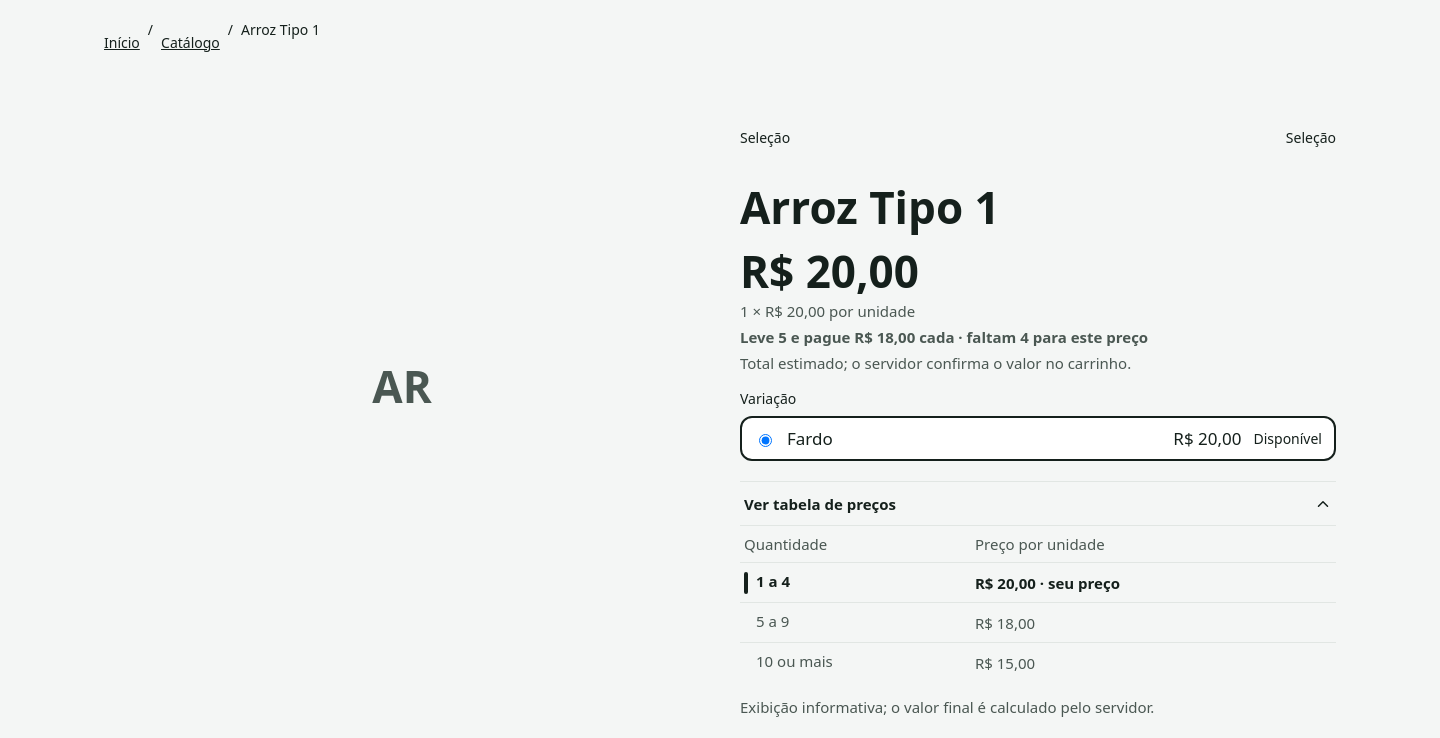
it: preço na página do produto › dropdown da tabela abre por padrão e alterna aria-expanded
Click the button "Ver tabela de preços" at {"x": 820, "y": 504}, box [740, 481, 1336, 525]
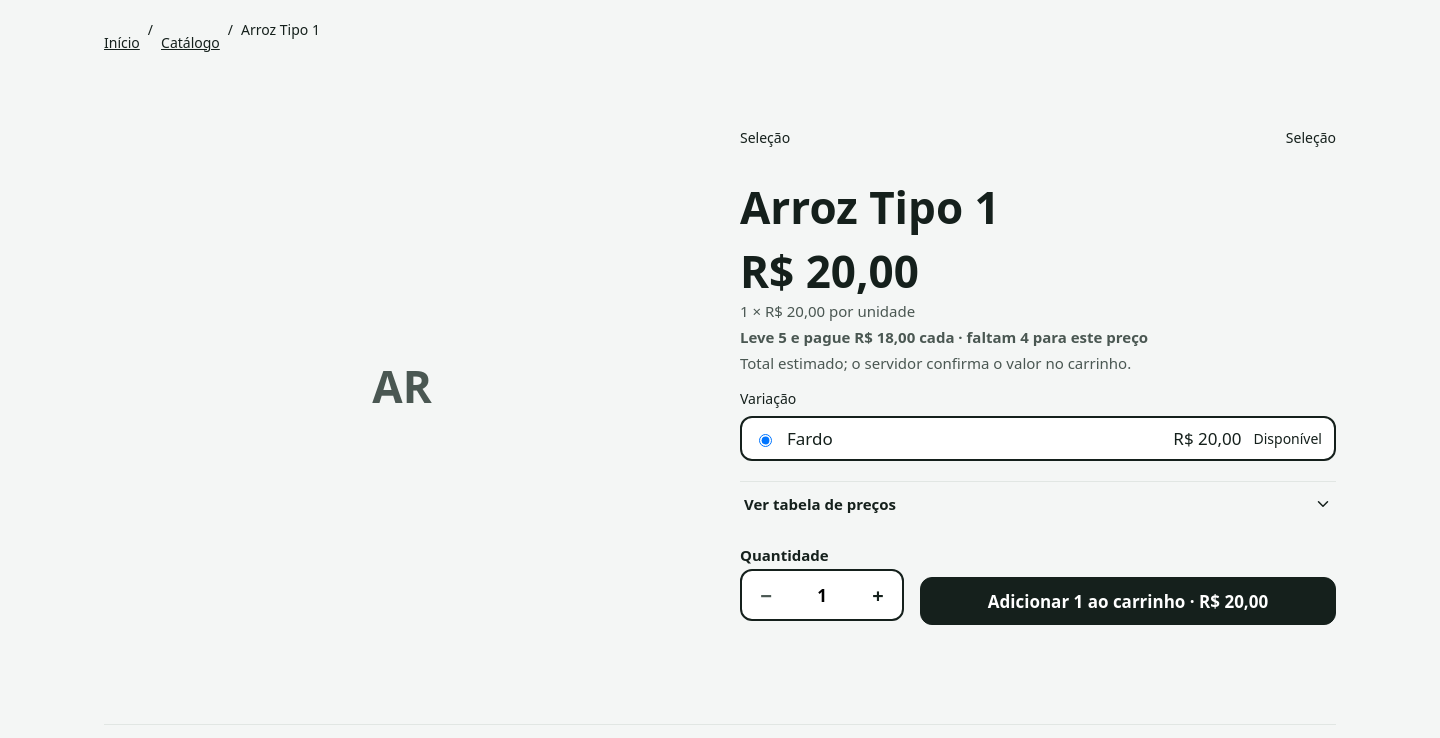
Result: the button "Ver tabela de preços" is collapsed
Click the button "Ver tabela de preços" at {"x": 820, "y": 504}, box [740, 481, 1336, 525]
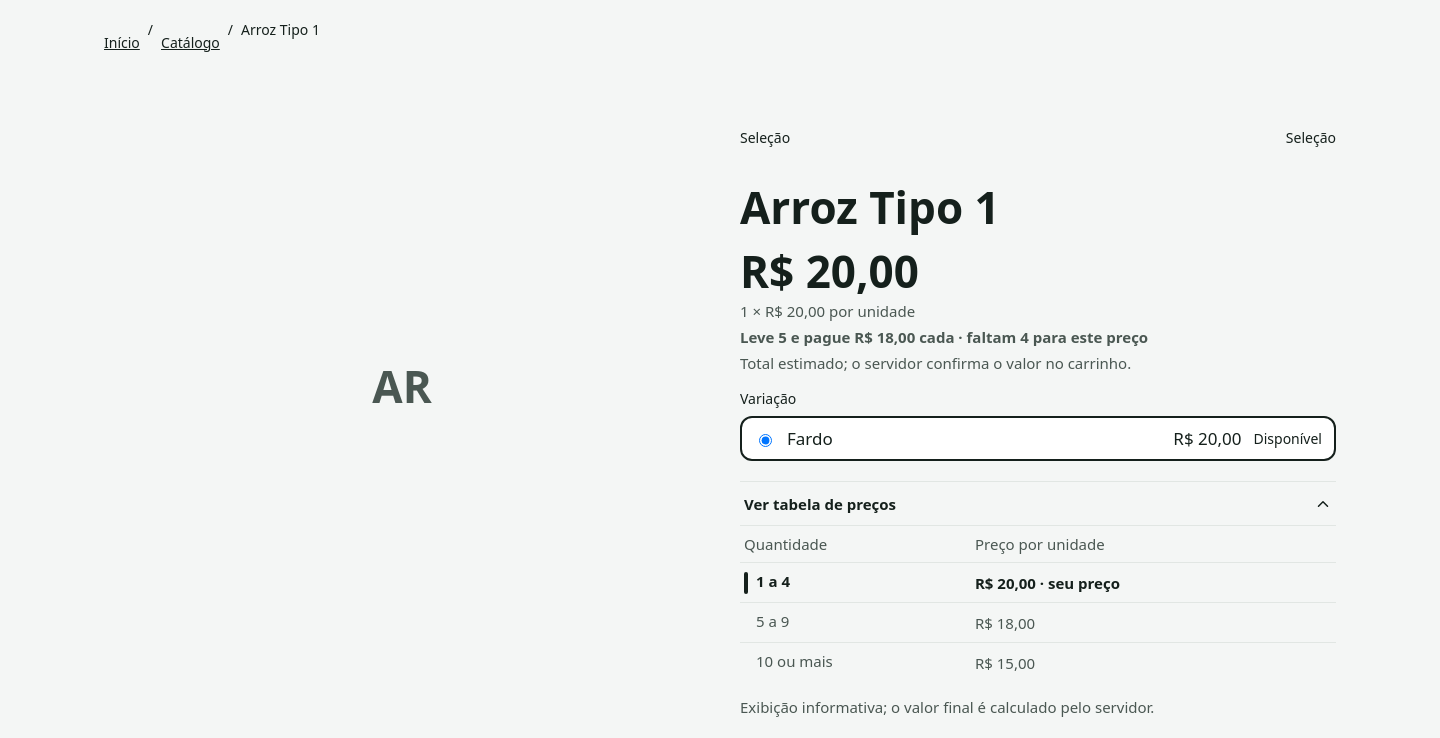
Result: the button "Ver tabela de preços" is expanded at [740, 481, 1336, 525]
